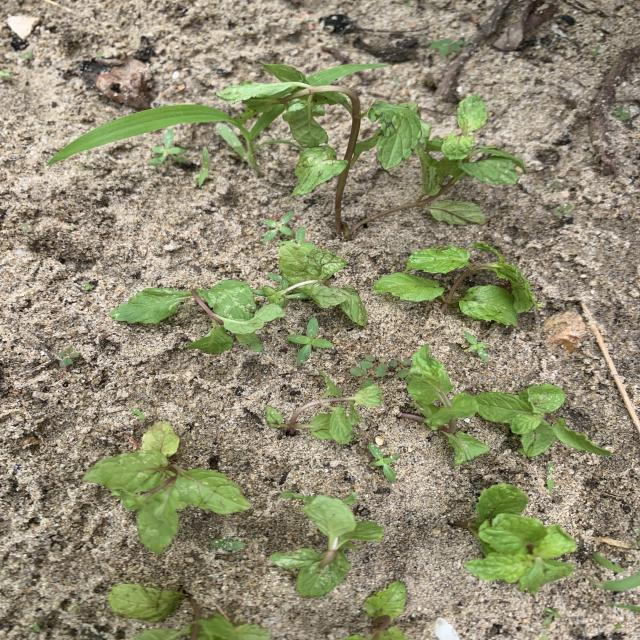crop: (217, 82, 524, 237), (400, 345, 610, 461), (352, 97, 524, 230), (85, 423, 250, 552), (374, 243, 539, 324), (456, 484, 575, 592), (110, 280, 273, 353), (270, 495, 383, 595), (477, 384, 611, 455), (258, 240, 366, 325), (109, 585, 271, 639), (265, 372, 382, 442), (367, 103, 430, 167), (345, 582, 407, 639)
weed: (49, 105, 264, 167), (286, 318, 332, 362), (306, 64, 389, 86), (151, 129, 184, 164), (369, 444, 399, 481), (352, 356, 396, 378), (264, 212, 294, 242), (592, 573, 639, 590), (464, 333, 487, 359), (430, 39, 466, 55), (197, 148, 209, 186), (57, 347, 79, 366), (211, 538, 243, 551), (543, 608, 559, 625), (553, 205, 571, 217), (609, 604, 639, 611), (547, 462, 554, 491), (615, 107, 630, 119), (27, 621, 40, 631), (132, 409, 144, 419), (344, 493, 356, 503), (83, 283, 94, 290), (0, 71, 11, 78), (614, 624, 622, 630)
